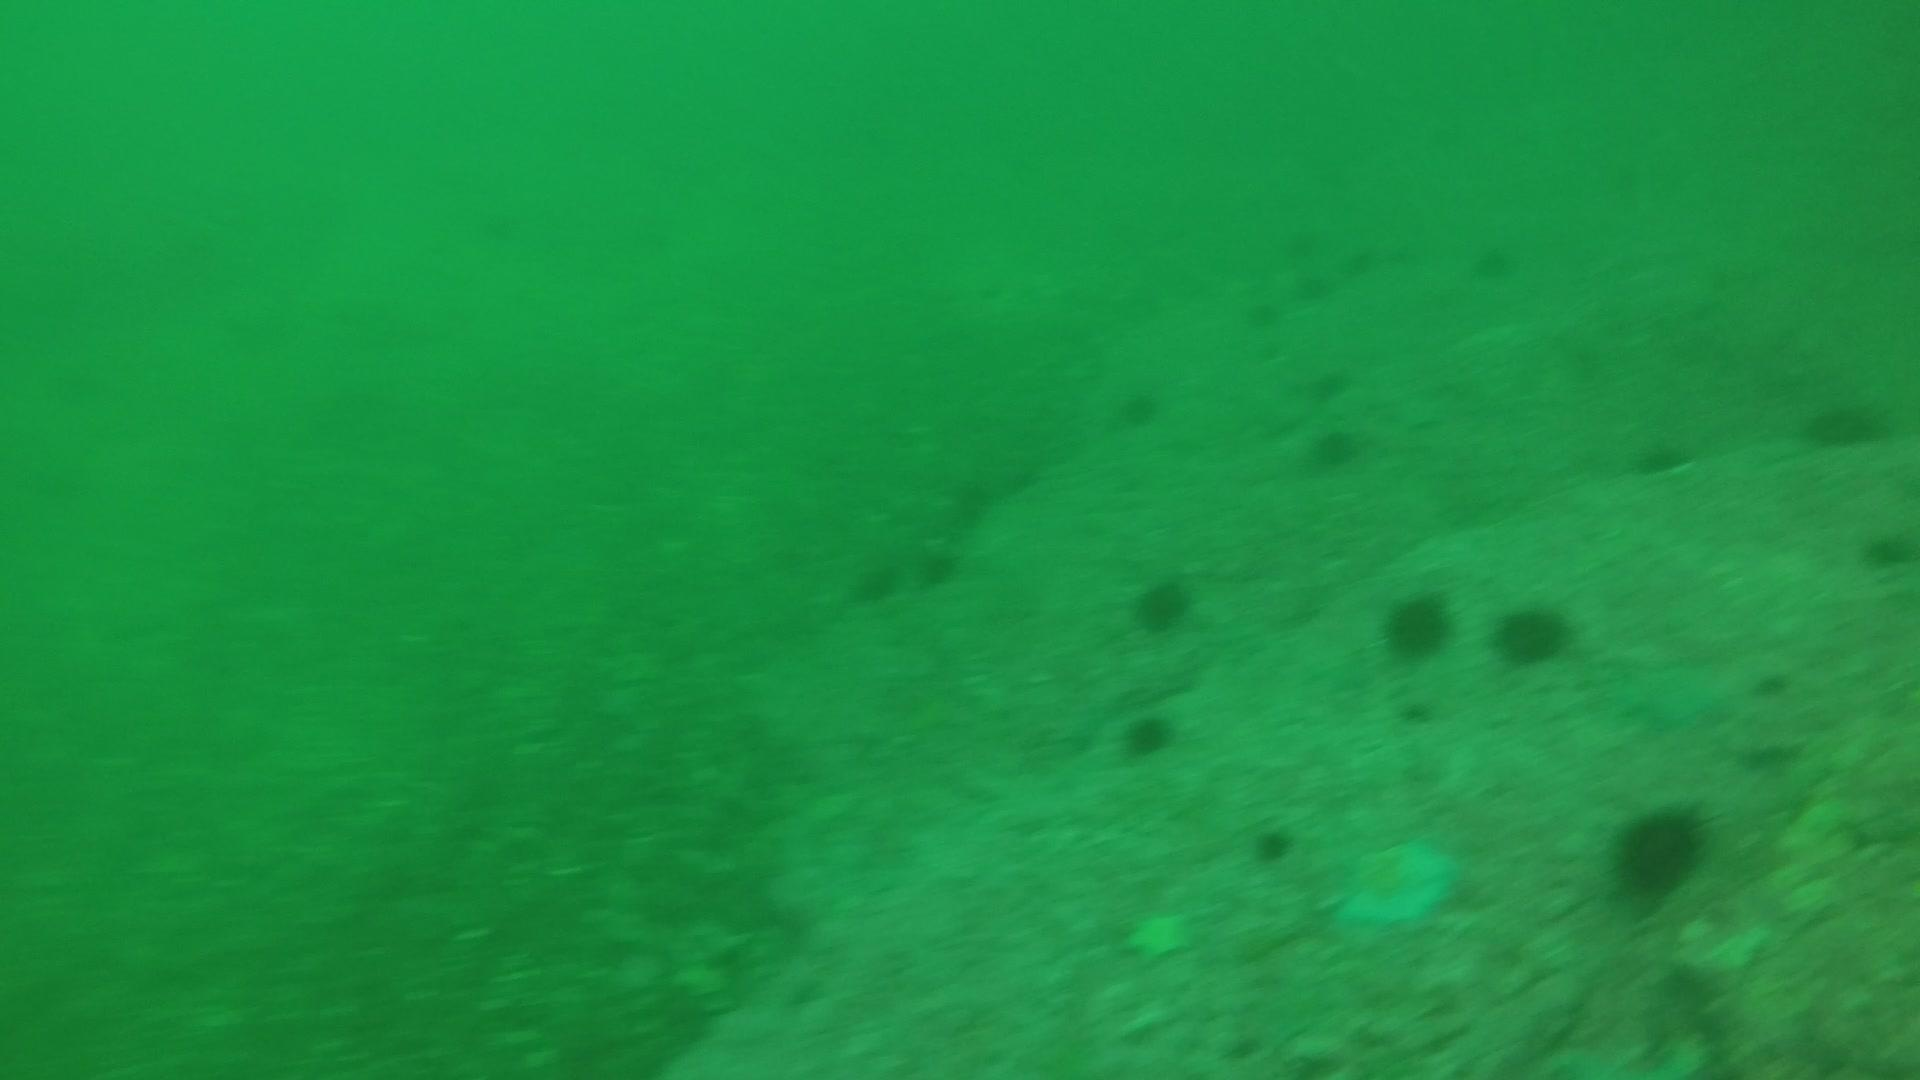echinus: (1605, 799, 1712, 902), (1375, 585, 1457, 665), (1490, 595, 1576, 669), (1799, 389, 1891, 454), (1127, 570, 1197, 636), (1116, 707, 1180, 764), (1302, 421, 1367, 476), (942, 472, 1000, 531), (1857, 522, 1919, 576), (1630, 431, 1695, 483), (848, 555, 905, 608), (1110, 380, 1166, 433), (1466, 235, 1520, 286), (1298, 363, 1352, 414), (1290, 265, 1344, 316), (1240, 295, 1294, 347), (1273, 222, 1327, 273), (1344, 249, 1398, 301), (913, 541, 963, 593), (1247, 819, 1298, 868)
starfish: (1321, 829, 1464, 935), (1615, 651, 1742, 733), (1120, 902, 1199, 967)
